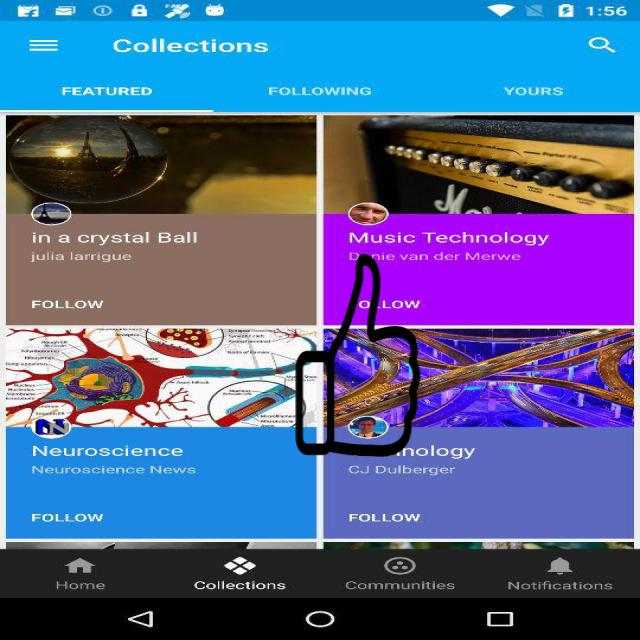privacy zuckering: (294, 254, 422, 457)
